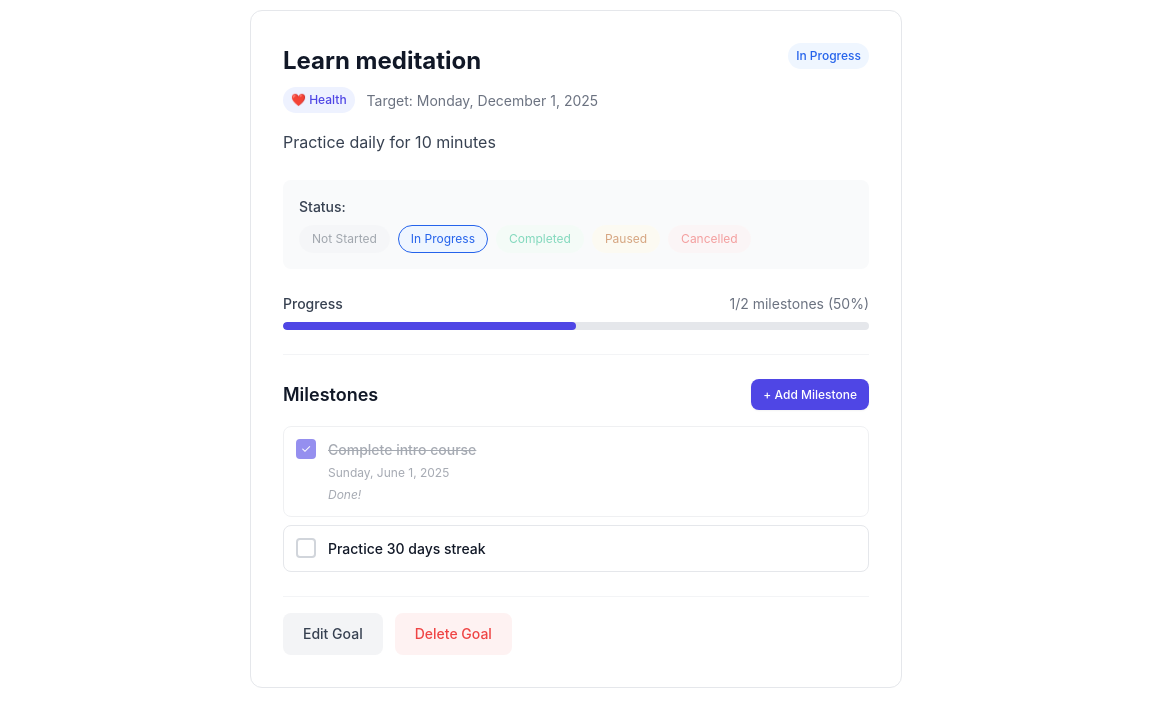
Scenario: GoalDetailView › opens delete confirmation modal when Delete Goal is clicked
(page scrolled)
Click the button with class "btn-danger" at (453, 634), box [395, 613, 512, 655]
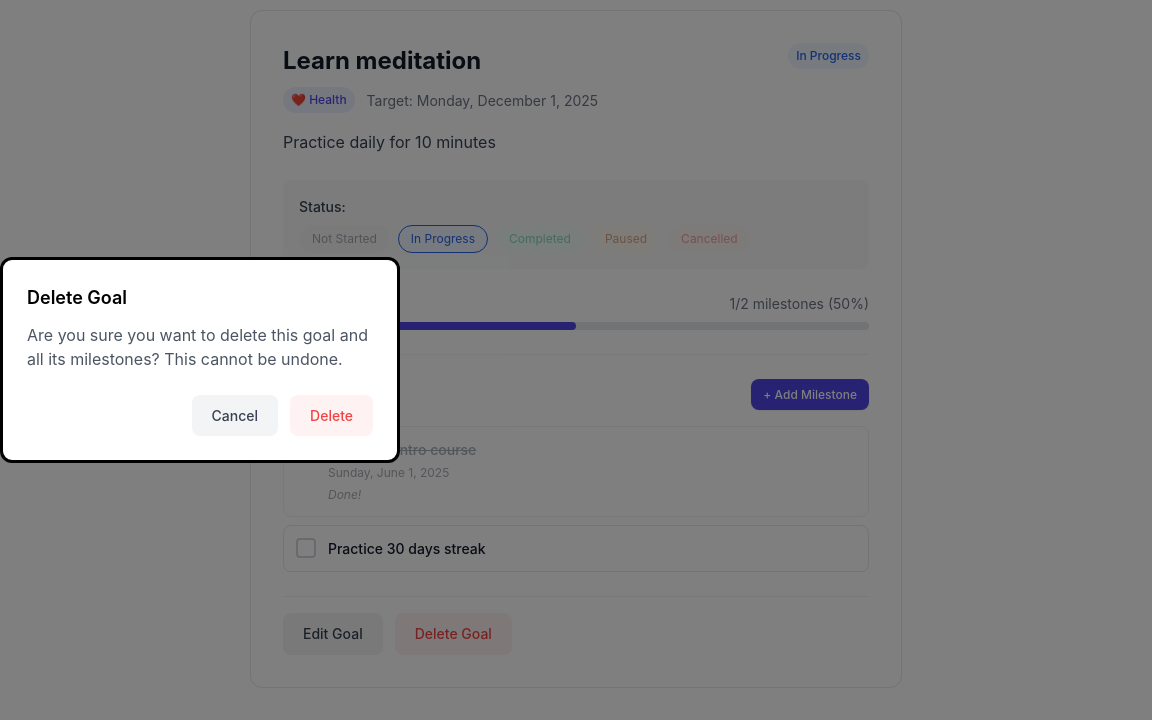
Expected: the element with class "modal-overlay" is shown
